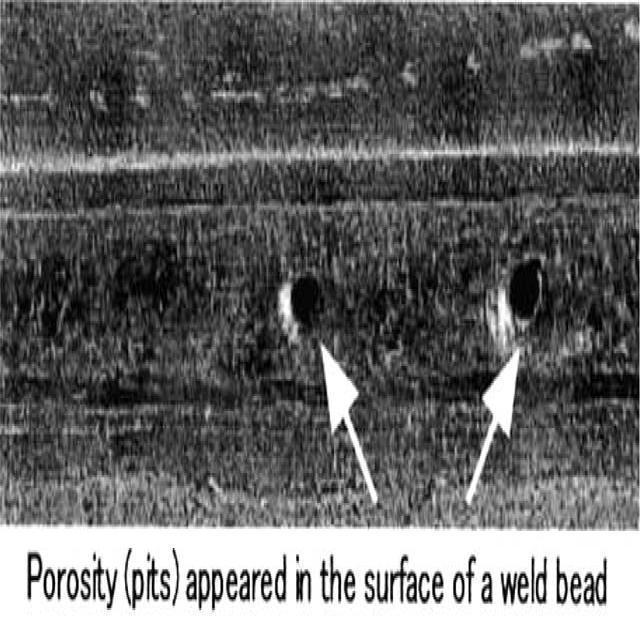Porosity: (270, 244, 332, 336), (505, 247, 549, 342)
